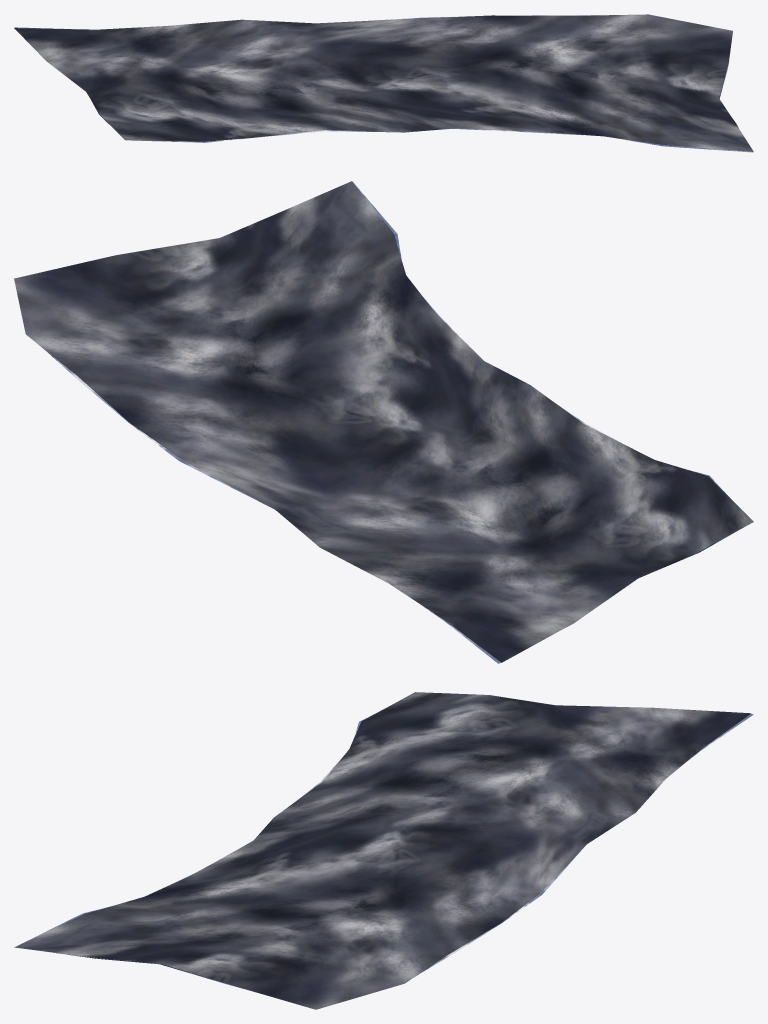
File: HTOWN01_WATER05.fbx
3 views of the same model, one above another, from view 1: azimuth 30°, elevation 25°; view 2: azimuth 150°, elevation 25°; view 3: azimuth 270°, elevation 25° (orthographic). The views are drawn at different scales.
Visible parts, largest first — view 1: HTOWN01_WATER05; view 2: HTOWN01_WATER05; view 3: HTOWN01_WATER05.
Boxes of the visible parts, x1=… form: HTOWN01_WATER05: x1=14, y1=14, x2=753, y2=152; HTOWN01_WATER05: x1=14, y1=181, x2=753, y2=663; HTOWN01_WATER05: x1=14, y1=692, x2=753, y2=1009.
Bounding box in the file's own units: 290633 × 3372 × 283234.
2 materials, 2 textured.
